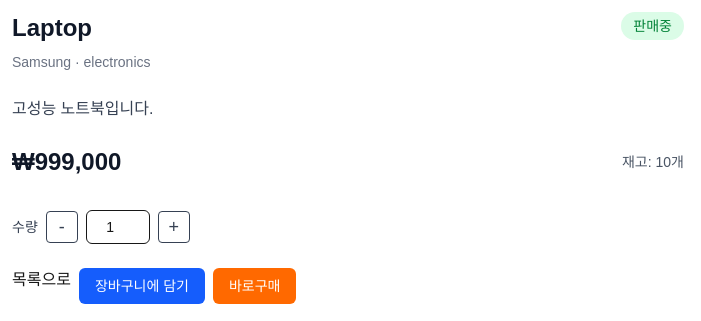
Test case: ProductDetail › [+] 클릭 시 수량이 1 증가한다
What coordinates should you click on to do the following:
click the button named "수량 증가"
I would click on:
 (174, 227)
Its box is [158,211,190,243].
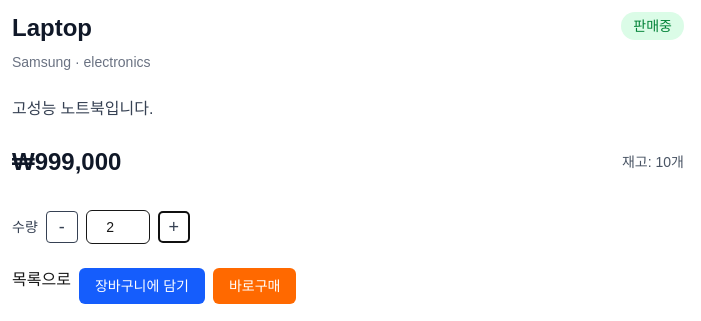
expect the number field labelled "수량" holds "2": met, box [86,210,150,244]
